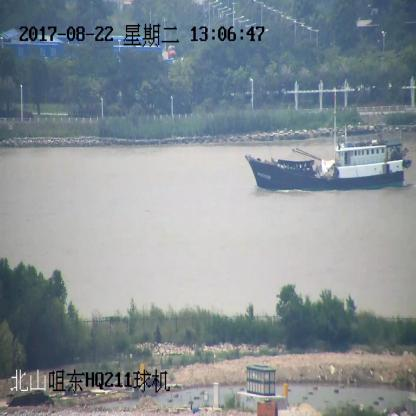Fishing Boat: (246, 91, 412, 190)
